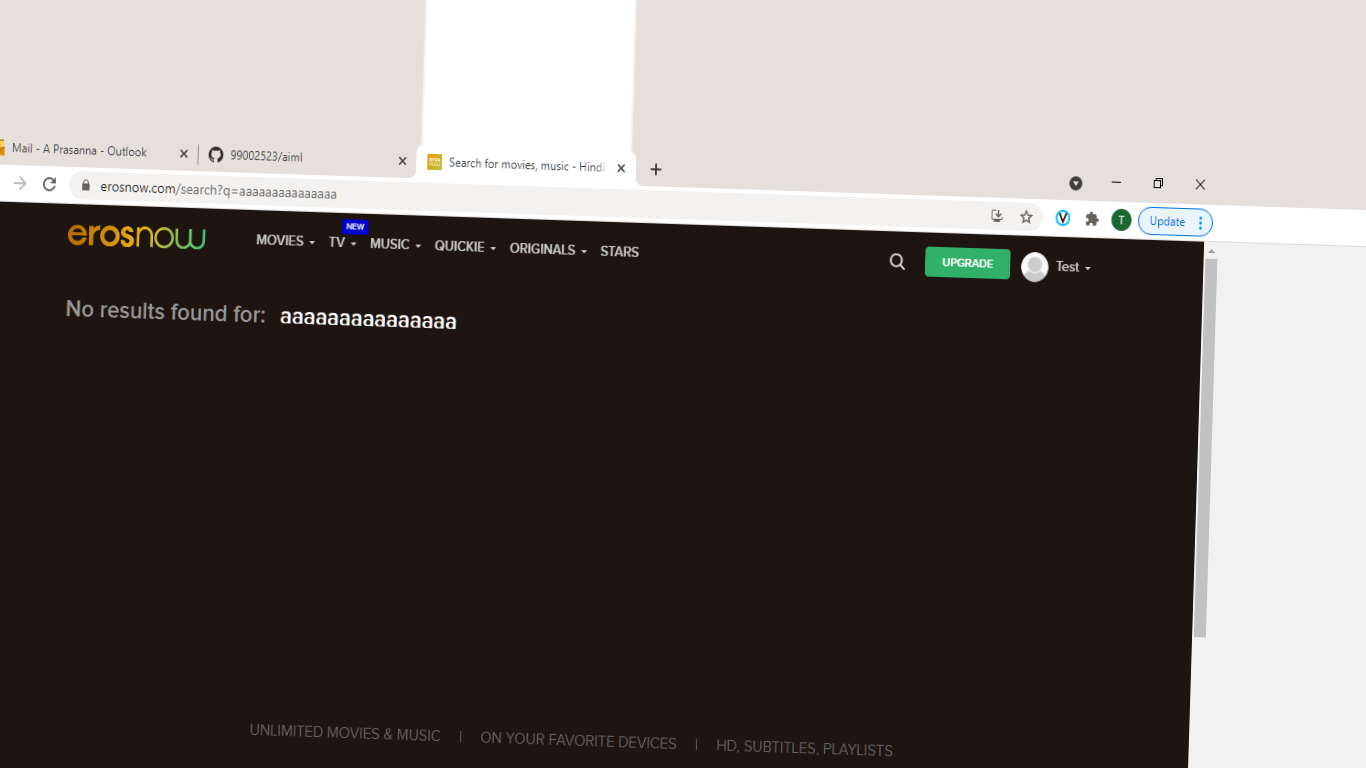noresultsfound: (45, 278, 489, 355)
profileicon: (1016, 244, 1096, 283)
searchicon: (872, 246, 916, 281)
